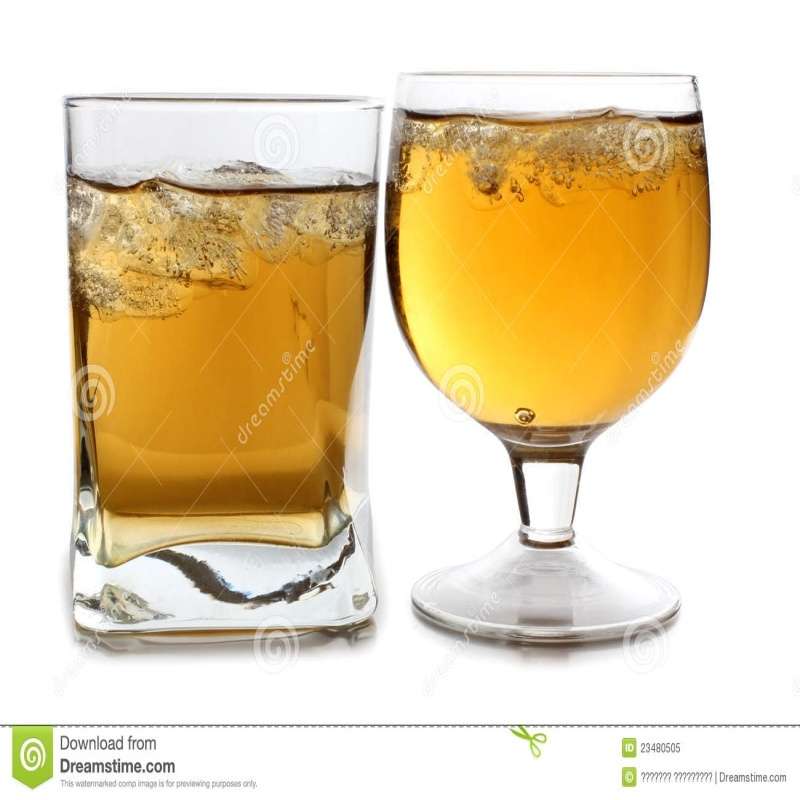whiskey: (58, 85, 372, 642), (382, 70, 720, 457)
